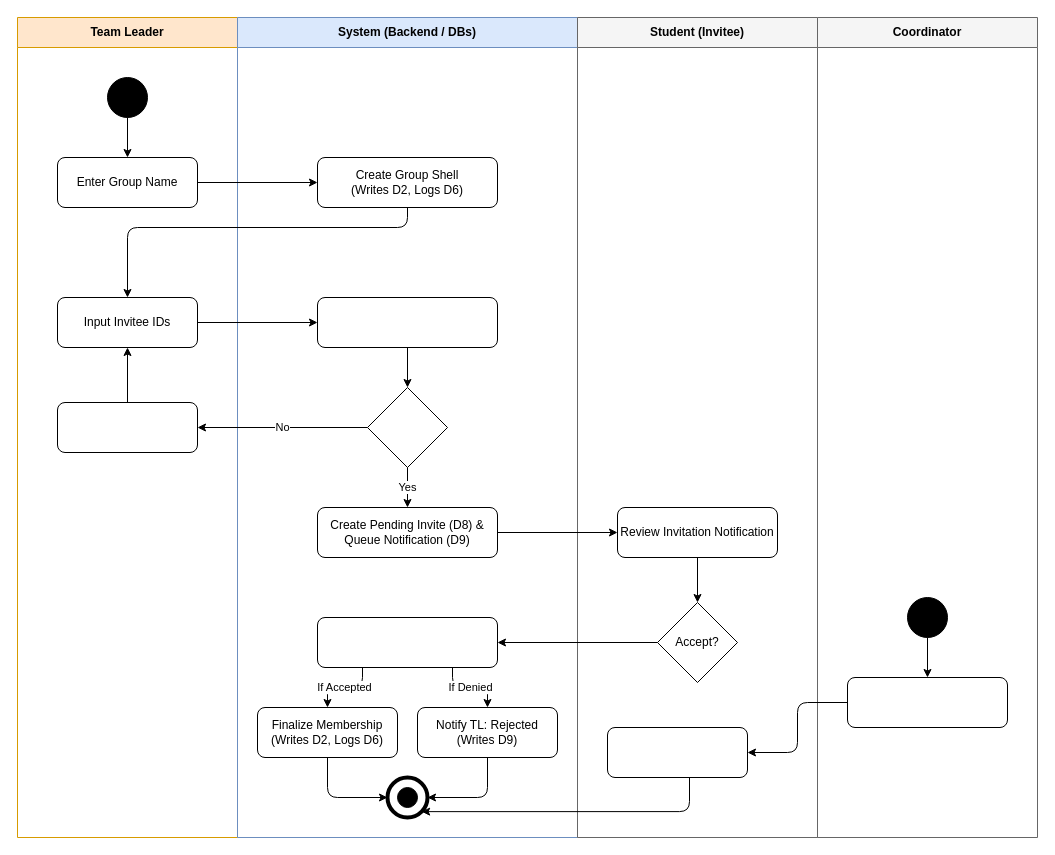
Image size: 1055x855. Some labels were removed from this diagram. The centre of each missing label's shape, as x and y in pixels:
"Issue Manual Add/Remove Command" belongs at pixel 927 702.
"Override Membership (Writes D2, Logs D6)" belongs at pixel 677 752.
"Review Error" belongs at pixel 127 427.
"Update Invite Status (Writes D8)" belongs at pixel 407 642.
"Valid?" belongs at pixel 407 427.
"Validate Profile & Group Status (Reads D1, D2)" belongs at pixel 407 322.
